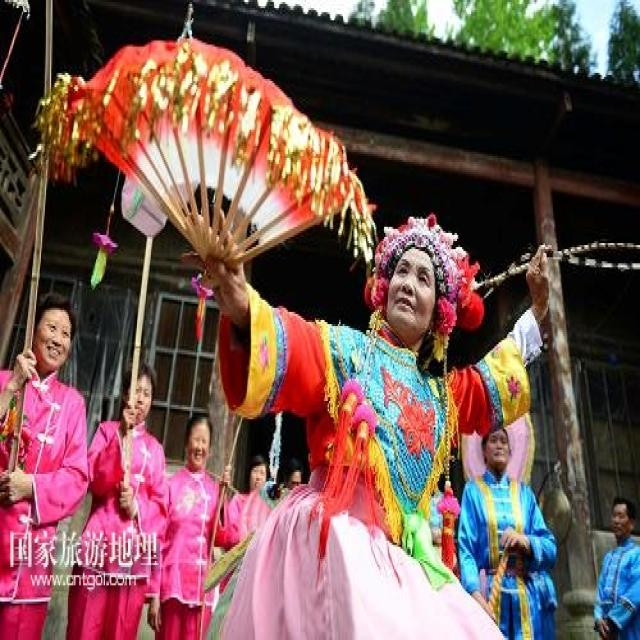Reeves-s Pheasant: (550, 241, 639, 269), (474, 253, 529, 296)
